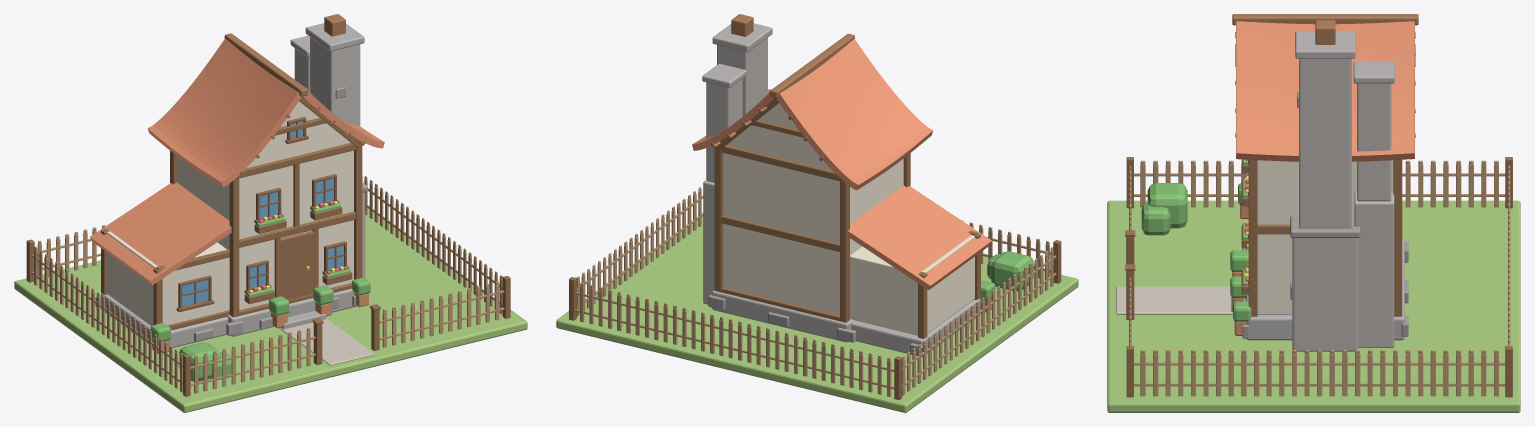
Rendered from house_village.glb.
3 views of the same model, side by side, from view 1: azimuth 30°, elevation 25°; view 2: azimuth 150°, elevation 25°; view 3: azimuth 270°, elevation 25° (orthographic). The views are drawn at different scales.
Parts seen in each view (by area): view 1: YardLawn, Roof_Terracotta_Main, HouseMainBody, Roof_Terracotta_Wing, WingBody, Chimney_Main_Stack, GableWall_-1, FrontDoorArchitrave, GardenPath, Beam_Post_FL, FoundationWing, FoundationMain (+9 smaller); view 2: YardLawn, HouseMainBody, Roof_Terracotta_Main, Roof_Terracotta_Wing, WingBody, GableWall_1, FoundationMain, Chimney_Main_Stack, Chimney_Sec_Upper, FoundationWing, Chimney_Sec_Base, Beam_Post_BR (+11 smaller); view 3: YardLawn, Roof_Terracotta_Main, Chimney_Main_Stack, Chimney_Main_Base, HouseMainBody, Chimney_Sec_Base, Chimney_Sec_Upper, GardenPath, RoofRidgeCap, FoundationMain, Beam_Post_FR, Beam_Post_BR (+12 smaller).
Part boxes in pixels (left/top/right/bottom): YardLawn: left=14, top=208, right=527, bottom=412; Roof_Terracotta_Main: left=147, top=38, right=384, bottom=187; HouseMainBody: left=176, top=150, right=353, bottom=310; Roof_Terracotta_Wing: left=90, top=182, right=231, bottom=285; WingBody: left=107, top=231, right=229, bottom=325; Chimney_Main_Stack: left=310, top=37, right=360, bottom=125; GableWall_-1: left=246, top=101, right=350, bottom=168; FrontDoorArchitrave: left=280, top=231, right=313, bottom=299; GardenPath: left=279, top=318, right=374, bottom=365; Beam_Post_FL: left=229, top=176, right=239, bottom=317; FoundationWing: left=101, top=293, right=228, bottom=348; FoundationMain: left=227, top=288, right=356, bottom=336; YardLawn: left=556, top=216, right=1078, bottom=412; HouseMainBody: left=723, top=153, right=903, bottom=315; Roof_Terracotta_Main: left=692, top=39, right=933, bottom=190; Roof_Terracotta_Wing: left=847, top=185, right=991, bottom=290; WingBody: left=850, top=235, right=974, bottom=335; GableWall_1: left=727, top=103, right=832, bottom=170; FoundationMain: left=712, top=290, right=854, bottom=342; Chimney_Main_Stack: left=717, top=37, right=767, bottom=116; Chimney_Sec_Upper: left=706, top=79, right=742, bottom=182; FoundationWing: left=851, top=298, right=980, bottom=357; Chimney_Sec_Base: left=703, top=180, right=714, bottom=304; Beam_Post_BR: left=714, top=148, right=723, bottom=291; YardLawn: left=1107, top=200, right=1520, bottom=412; Roof_Terracotta_Main: left=1236, top=21, right=1414, bottom=161; Chimney_Main_Stack: left=1299, top=58, right=1351, bottom=228; Chimney_Main_Base: left=1292, top=238, right=1358, bottom=351; HouseMainBody: left=1257, top=160, right=1393, bottom=314; Chimney_Sec_Base: left=1354, top=192, right=1394, bottom=347; Chimney_Sec_Upper: left=1357, top=83, right=1391, bottom=201; GardenPath: left=1116, top=286, right=1232, bottom=314; RoofRidgeCap: left=1232, top=14, right=1418, bottom=25; FoundationMain: left=1246, top=240, right=1404, bottom=340; Beam_Post_FR: left=1248, top=159, right=1257, bottom=316; Beam_Post_BR: left=1393, top=159, right=1402, bottom=316.
Size of the model in its own units: 8.4 by 6.32 by 7.2.
